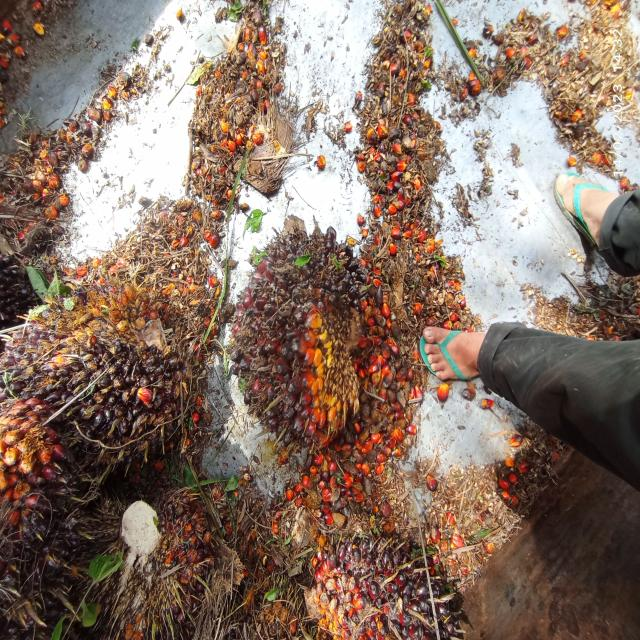fraksi 00: (0, 203, 240, 497)
fraksi 1: (222, 187, 394, 478)
